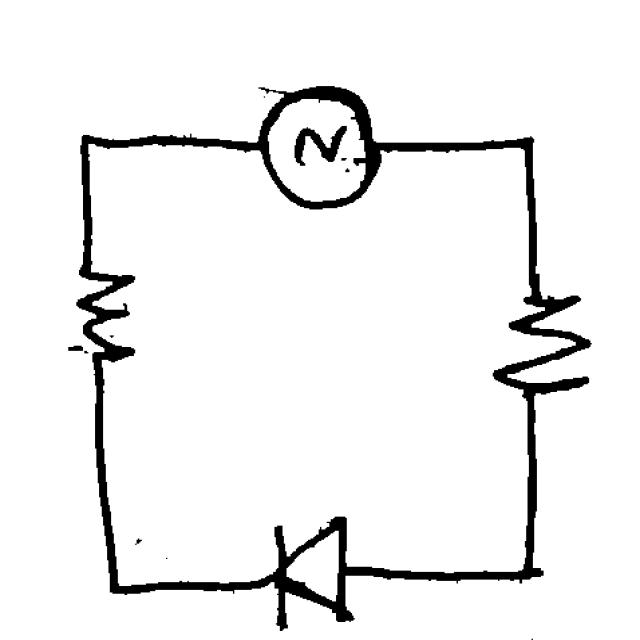ac: (250, 77, 392, 216)
diode: (253, 502, 373, 635)
resistor: (482, 283, 596, 406), (60, 248, 143, 381)
